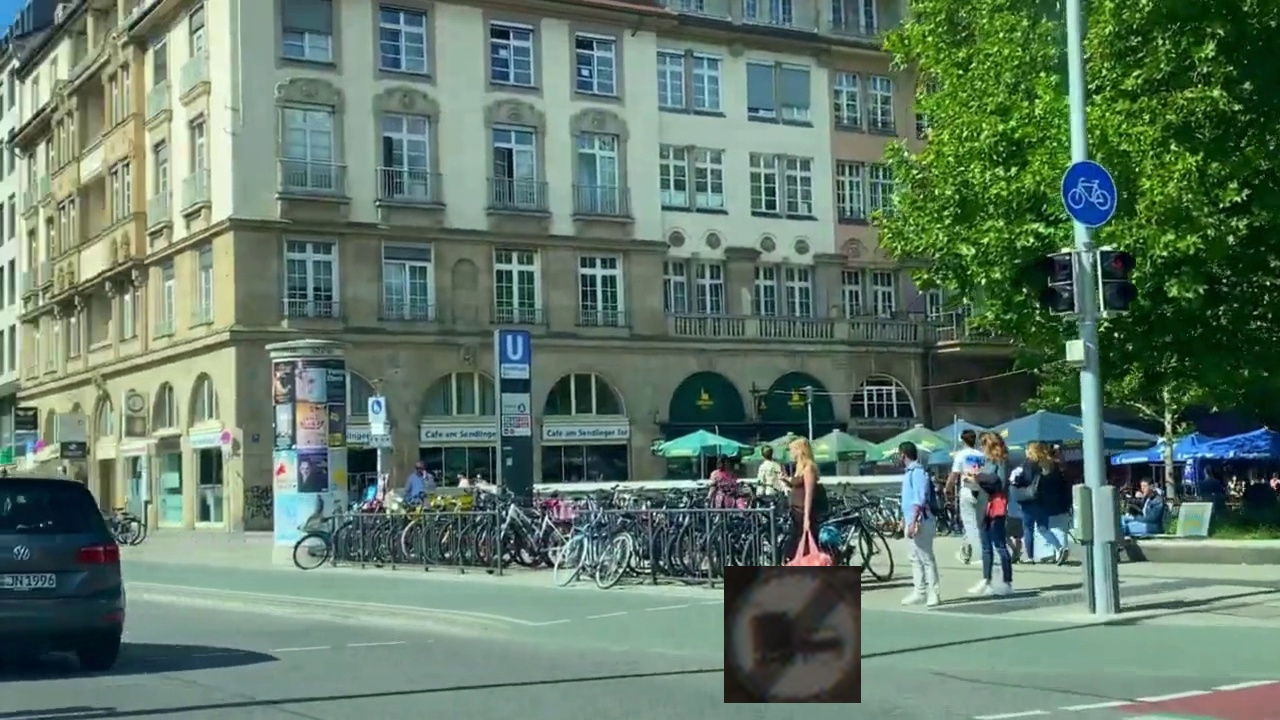End no pass >3.5t: (724, 566, 861, 703)
